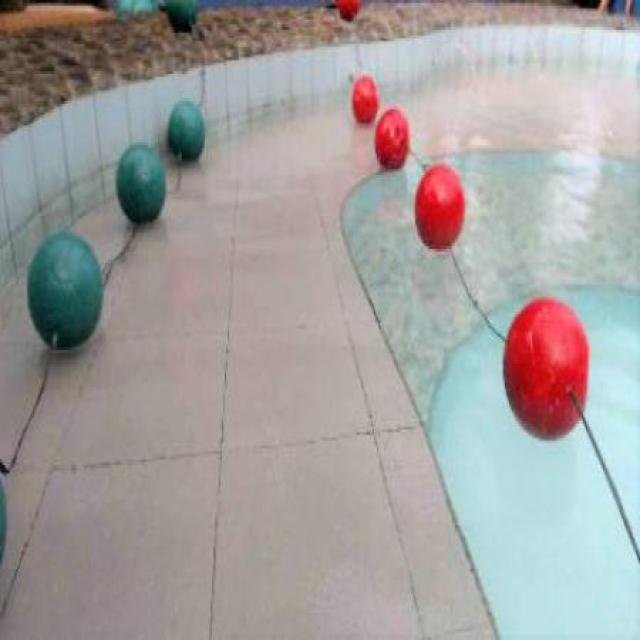buoy: (501, 295, 588, 437), (26, 232, 103, 348), (414, 164, 466, 252), (115, 144, 165, 223), (168, 98, 205, 159), (373, 107, 409, 160), (350, 75, 377, 121)
